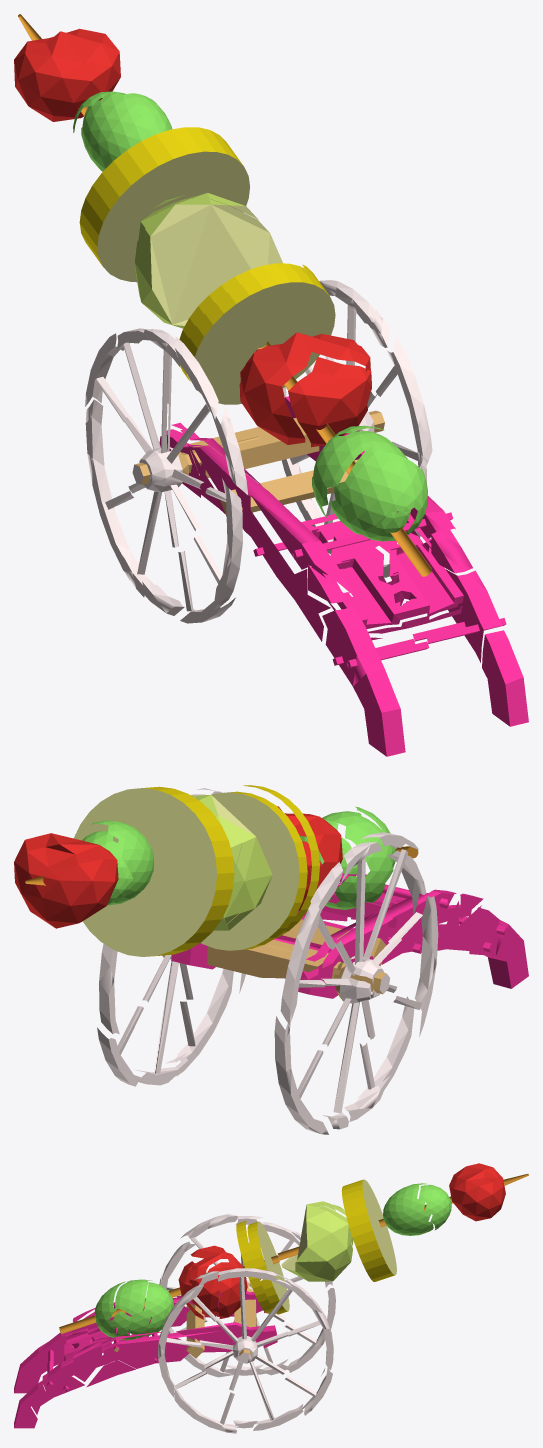
The model's file is fruitCannon-explosion.glb.
The picture shows the model from 3 angles, top to bottom: view 1: azimuth 30°, elevation 25°; view 2: azimuth 150°, elevation 25°; view 3: azimuth 270°, elevation 25°; orthographic projection. The views are drawn at different scales.
Visible parts, largest first — view 1: Cylinder.035, Cylinder.009, Cylinder.032, Cylinder.044, Cylinder.010, Cylinder.029, Cylinder.004, Cylinder.043, Cylinder.067, Cylinder.006, Cylinder.091, Cylinder.011 (+20 smaller); view 2: Cylinder.035, Cylinder.028, Cylinder.044, Cylinder.009, Cylinder.037, Cylinder.043, Cylinder.066, Cylinder.040, Cylinder.006, Cylinder.011, Cylinder.052, Cylinder.076 (+26 smaller); view 3: Cylinder.035, Cylinder.044, Cylinder.007, Cylinder.005, Cylinder.006, Cylinder.043, Cylinder.028, Cylinder.009, Cylinder.037, Cylinder.004, Cylinder.025, Cylinder.045 (+27 smaller).
Part boxes in pixels (left/top/right/bottom): Cylinder.035: left=79, top=127, right=249, bottom=282; Cylinder.009: left=134, top=198, right=282, bottom=328; Cylinder.032: left=186, top=264, right=335, bottom=404; Cylinder.044: left=14, top=28, right=120, bottom=121; Cylinder.010: left=321, top=531, right=463, bottom=628; Cylinder.029: left=329, top=446, right=427, bottom=541; Cylinder.004: left=239, top=332, right=371, bottom=444; Cylinder.043: left=322, top=605, right=405, bottom=756; Cylinder.067: left=288, top=356, right=371, bottom=447; Cylinder.006: left=81, top=92, right=172, bottom=171; Cylinder.091: left=482, top=630, right=528, bottom=726; Cylinder.011: left=85, top=399, right=136, bottom=581; Cylinder.035: left=73, top=786, right=234, bottom=956; Cylinder.028: left=201, top=791, right=307, bottom=950; Cylinder.044: left=14, top=833, right=118, bottom=928; Cylinder.009: left=194, top=794, right=272, bottom=930; Cylinder.037: left=322, top=811, right=393, bottom=909; Cylinder.043: left=469, top=907, right=528, bottom=988; Cylinder.066: left=207, top=939, right=328, bottom=978; Cylinder.040: left=334, top=842, right=381, bottom=1003; Cylinder.006: left=89, top=820, right=153, bottom=905; Cylinder.011: left=274, top=1016, right=328, bottom=1134; Cylinder.052: left=280, top=897, right=319, bottom=1025; Cylinder.076: left=415, top=896, right=438, bottom=1036; Cylinder.035: left=341, top=1179, right=396, bottom=1281; Cylinder.044: left=449, top=1163, right=505, bottom=1221; Cylinder.007: left=306, top=1206, right=352, bottom=1281; Cylinder.005: left=103, top=1331, right=219, bottom=1368; Cylinder.006: left=383, top=1183, right=433, bottom=1235; Cylinder.043: left=14, top=1331, right=75, bottom=1393; Cylinder.028: left=247, top=1221, right=289, bottom=1314; Cylinder.009: left=281, top=1201, right=335, bottom=1281; Cylinder.037: left=115, top=1279, right=154, bottom=1338; Cylinder.004: left=189, top=1245, right=228, bottom=1317; Cylinder.025: left=218, top=1268, right=285, bottom=1363; Cylinder.045: left=207, top=1252, right=247, bottom=1318.
Bounding box in the file's own units: 3.23 × 5.25 × 10.19.
